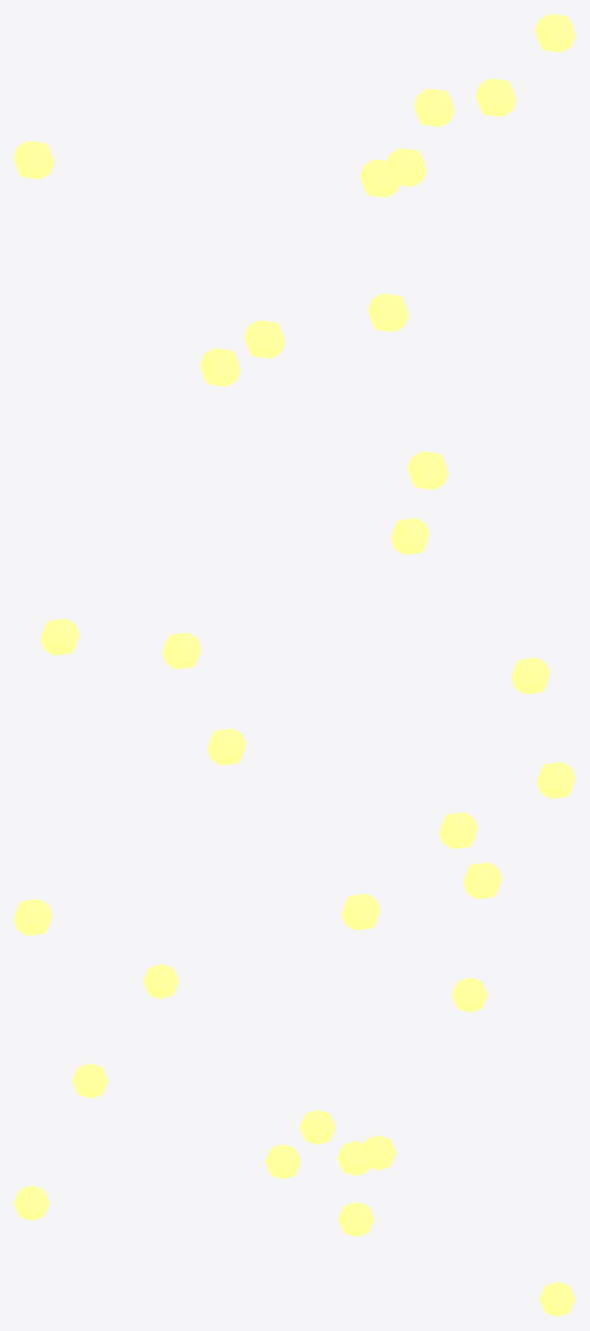
The model's file is Gluhwurmche2_2.fbx.
The picture shows the model from 3 angles, top to bottom: view 1: azimuth 30°, elevation 25°; view 2: azimuth 150°, elevation 25°; view 3: azimuth 270°, elevation 25°; orthographic projection. The views are drawn at different scales.
Visible parts, largest first — view 1: 立方体.007, 立方体.002; view 2: 立方体.007, 立方体.002; view 3: 立方体.007, 立方体.002.
Boxes of the visible parts, x1,y1,x2,y2 form: 立方体.007: [14, 79, 516, 489]; 立方体.002: [245, 14, 575, 358]; 立方体.007: [163, 633, 575, 898]; 立方体.002: [14, 518, 429, 935]; 立方体.007: [14, 977, 488, 1220]; 立方体.002: [143, 964, 575, 1316].
Bounding box in the file's own units: 184 × 117 × 201.
